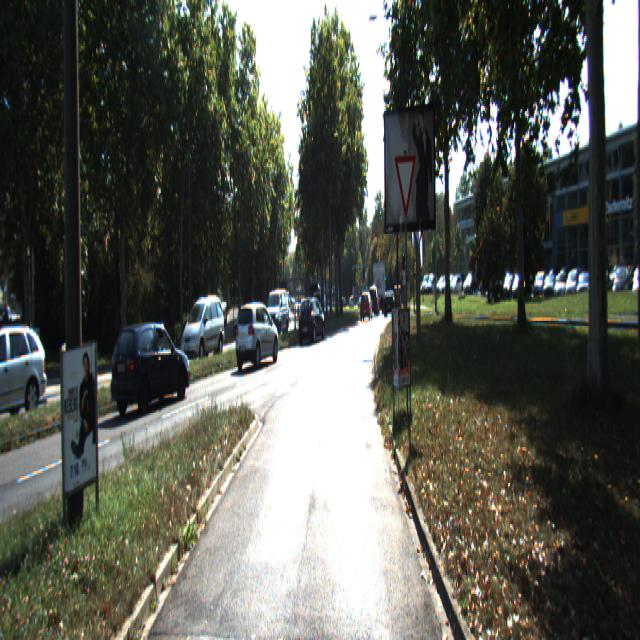Car: (110, 318, 191, 417), (0, 316, 52, 420), (234, 301, 280, 371), (180, 294, 226, 363), (299, 296, 326, 346), (266, 287, 290, 336), (361, 292, 374, 322)
